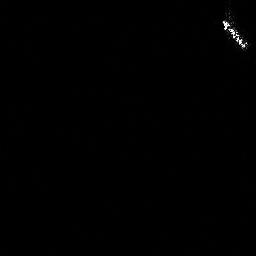ship: (219, 18, 250, 50)
